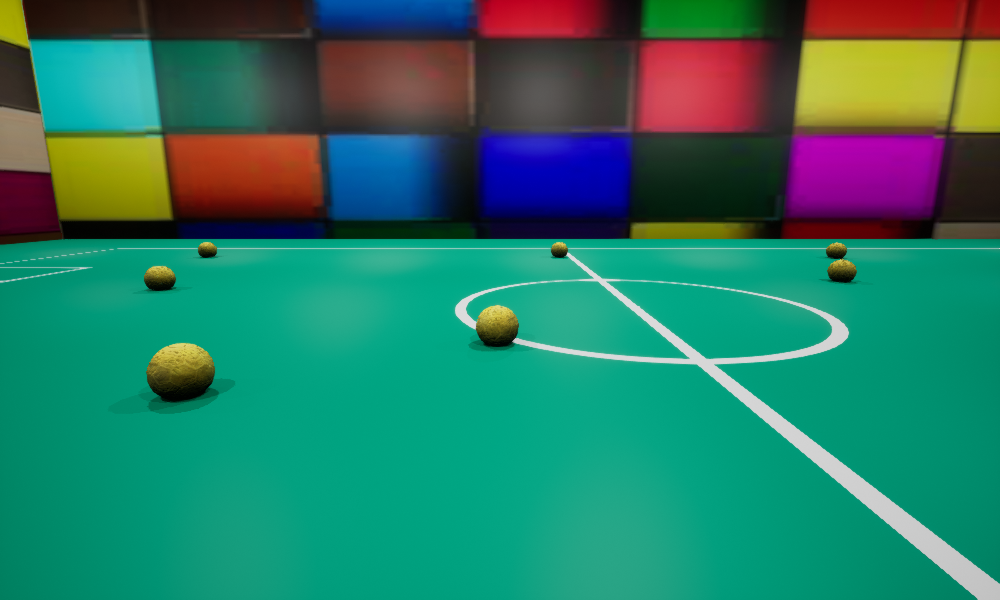b: (146, 343, 214, 399), (476, 305, 518, 345), (144, 266, 175, 290), (827, 259, 856, 281), (826, 242, 846, 257), (198, 242, 216, 256), (551, 242, 567, 256)
